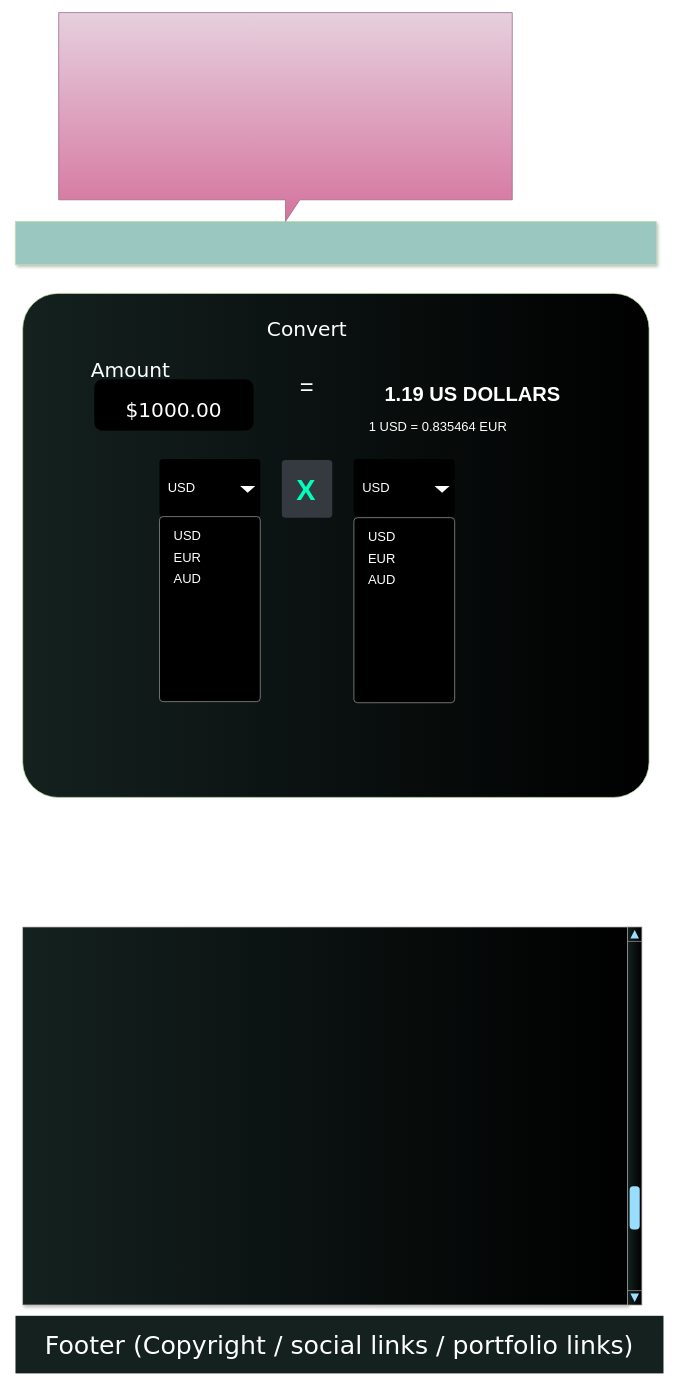
Image size: 676x1386. Some labels were removed from this diagram. Each missing label, with the centre of its shape:
"C R V USD 1 1000 BP 0.85 850 IR 0.452 452 EU 0.853 853" belongs at [325,1116].
"Everything on this view functions the same as the desktop view" belongs at [285,116].
"Simple Currency Converter V2" belongs at [336,244].
